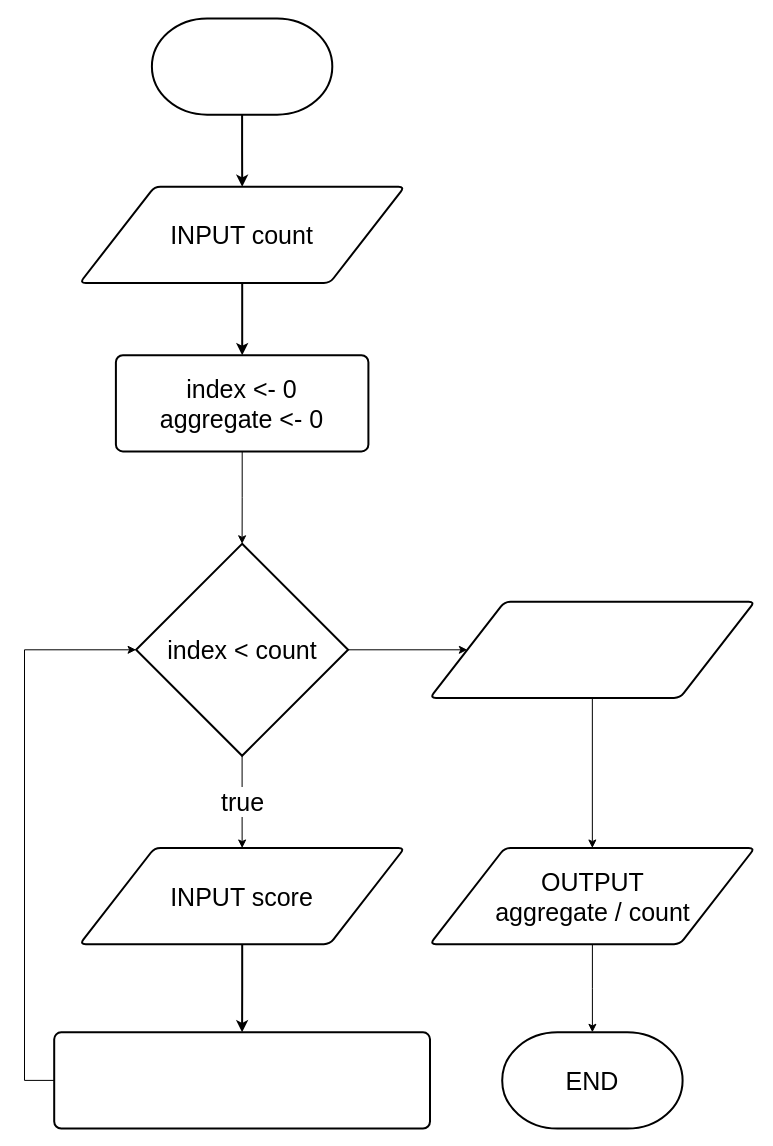
Image size: 773x1146. Some labels were removed from this diagram. Here are the shapes that lost their labels. From the top down, the centre of each, then its label:
(x=241, y=66): START
(x=591, y=649): OUTPUT aggregate
(x=241, y=1080): aggregate <- aggregate + score
